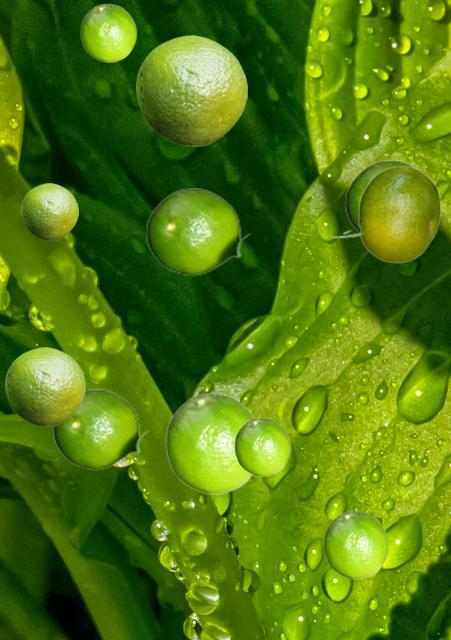calamansi: (136, 35, 246, 145), (330, 165, 440, 262), (165, 392, 257, 493), (145, 188, 251, 275), (344, 160, 445, 237), (52, 389, 149, 469), (5, 347, 84, 425), (323, 510, 388, 578), (80, 3, 136, 61), (234, 417, 290, 475), (21, 183, 77, 239)
